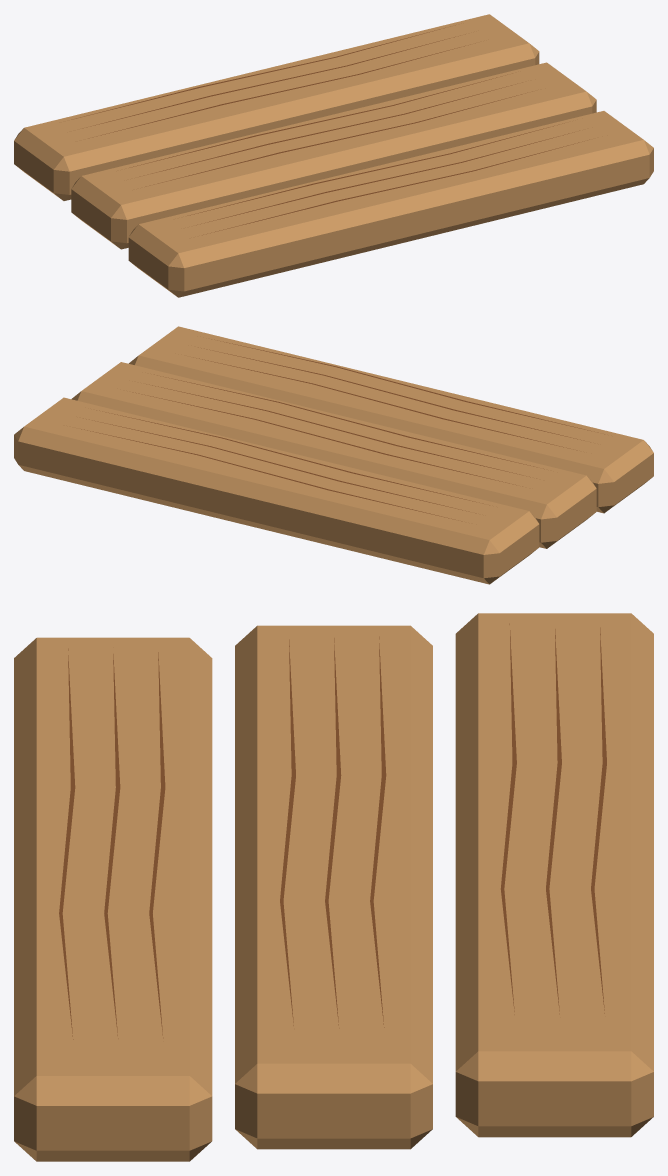
The model's file is tabuas_madeira.glb.
3 views of the same model, one above another, from view 1: azimuth 30°, elevation 25°; view 2: azimuth 150°, elevation 25°; view 3: azimuth 270°, elevation 25° (orthographic). The views are drawn at different scales.
Visible parts, largest first — view 1: Tábua 1, Tábua 2, Tábua 3, Veio longitudinal, Veio longitudinal.003, Veio longitudinal.005, Veio longitudinal.006, Veio longitudinal.008, Veio longitudinal.002, Veio longitudinal.004, Veio longitudinal.007, Veio longitudinal.001; view 2: Tábua 3, Tábua 2, Tábua 1, Veio longitudinal.001, Veio longitudinal, Veio longitudinal.007, Veio longitudinal.006, Veio longitudinal.005, Veio longitudinal.002, Veio longitudinal.003, Veio longitudinal.008, Veio longitudinal.004; view 3: Tábua 3, Tábua 1, Tábua 2, Veio longitudinal.001, Veio longitudinal.004, Veio longitudinal, Veio longitudinal.002, Veio longitudinal.005, Veio longitudinal.007, Veio longitudinal.006, Veio longitudinal.003, Veio longitudinal.008.
Boxes of the visible parts, x1,y1,x2,y2 form: Tábua 1: (128, 111, 653, 297); Tábua 2: (71, 62, 596, 249); Tábua 3: (14, 14, 539, 200); Veio longitudinal: (202, 139, 589, 235); Veio longitudinal.003: (145, 91, 532, 186); Veio longitudinal.005: (129, 73, 512, 167); Veio longitudinal.006: (88, 43, 475, 138); Veio longitudinal.008: (71, 25, 455, 119); Veio longitudinal.002: (187, 123, 564, 215); Veio longitudinal.004: (139, 82, 522, 176); Veio longitudinal.007: (82, 34, 465, 128); Veio longitudinal.001: (196, 130, 579, 225); Tábua 3: (14, 397, 539, 584); Tábua 2: (71, 362, 596, 548); Tábua 1: (129, 326, 653, 513); Veio longitudinal.001: (198, 347, 590, 442); Veio longitudinal: (211, 339, 604, 434); Veio longitudinal.007: (83, 418, 476, 513); Veio longitudinal.006: (96, 410, 489, 505); Veio longitudinal.005: (132, 392, 522, 486); Veio longitudinal.002: (193, 357, 577, 450); Veio longitudinal.003: (154, 374, 544, 469); Veio longitudinal.008: (81, 429, 462, 521); Veio longitudinal.004: (146, 384, 536, 478); Tábua 3: (455, 613, 653, 1137); Tábua 1: (14, 637, 212, 1161); Tábua 2: (235, 625, 432, 1149); Veio longitudinal.001: (104, 654, 120, 1038); Veio longitudinal.004: (325, 638, 341, 1028); Veio longitudinal: (59, 648, 75, 1039); Veio longitudinal.002: (149, 652, 165, 1038); Veio longitudinal.005: (370, 636, 386, 1027); Veio longitudinal.007: (546, 629, 561, 1014); Veio longitudinal.006: (500, 623, 516, 1014); Veio longitudinal.003: (280, 639, 295, 1025); Veio longitudinal.008: (591, 627, 606, 1013).
Bounding box in the file's own units: 1.2 × 0.145 × 0.71.
